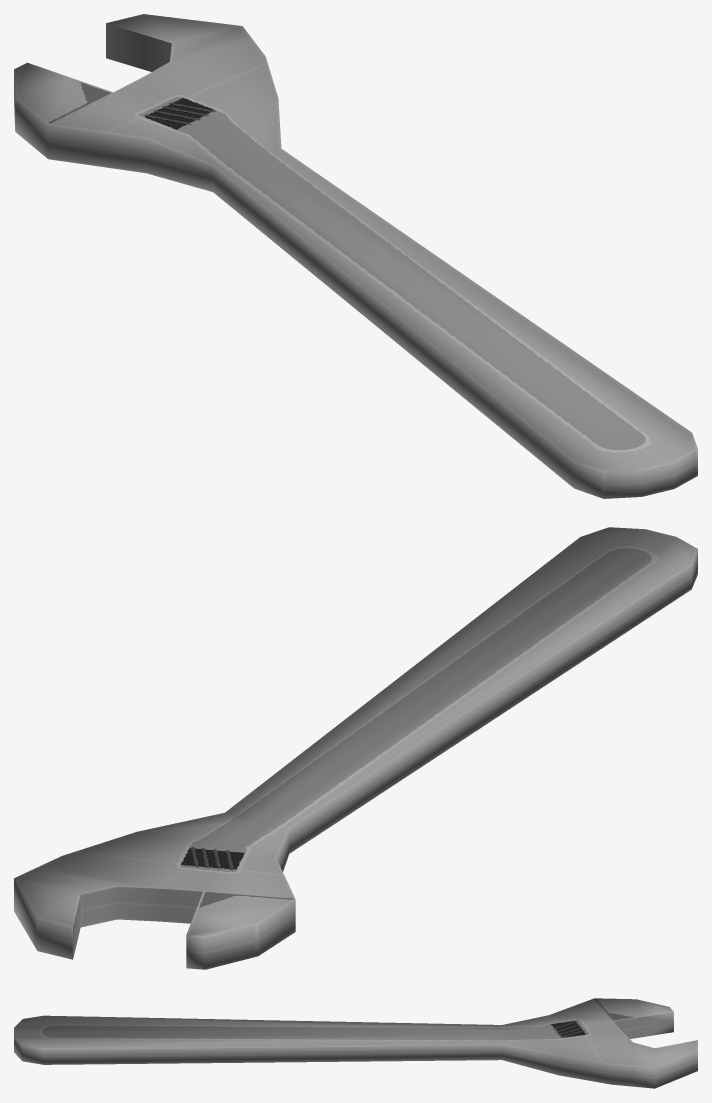
The model's file is wrench.glb.
The picture shows the model from 3 angles, top to bottom: view 1: azimuth 30°, elevation 25°; view 2: azimuth 150°, elevation 25°; view 3: azimuth 270°, elevation 25°; orthographic projection. The views are drawn at different scales.
Visible parts, largest first — view 1: Cube; view 2: Cube; view 3: Cube.
Boxes of the visible parts, x1=… form: Cube: x1=14, y1=14, x2=697, y2=498; Cube: x1=14, y1=527, x2=697, y2=969; Cube: x1=14, y1=998, x2=697, y2=1088.
Bounding box in the file's own units: 0.0552 × 0.00749 × 0.2282.
Materials: 1 (1 with a texture image).
